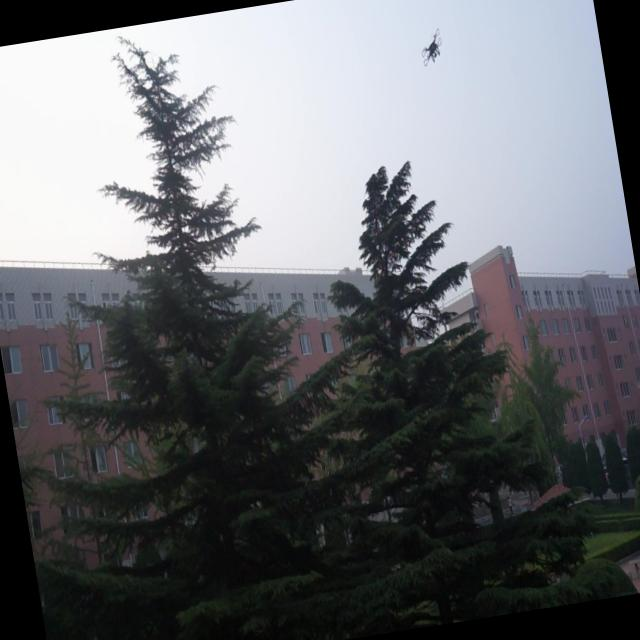drone: (416, 24, 446, 70)
